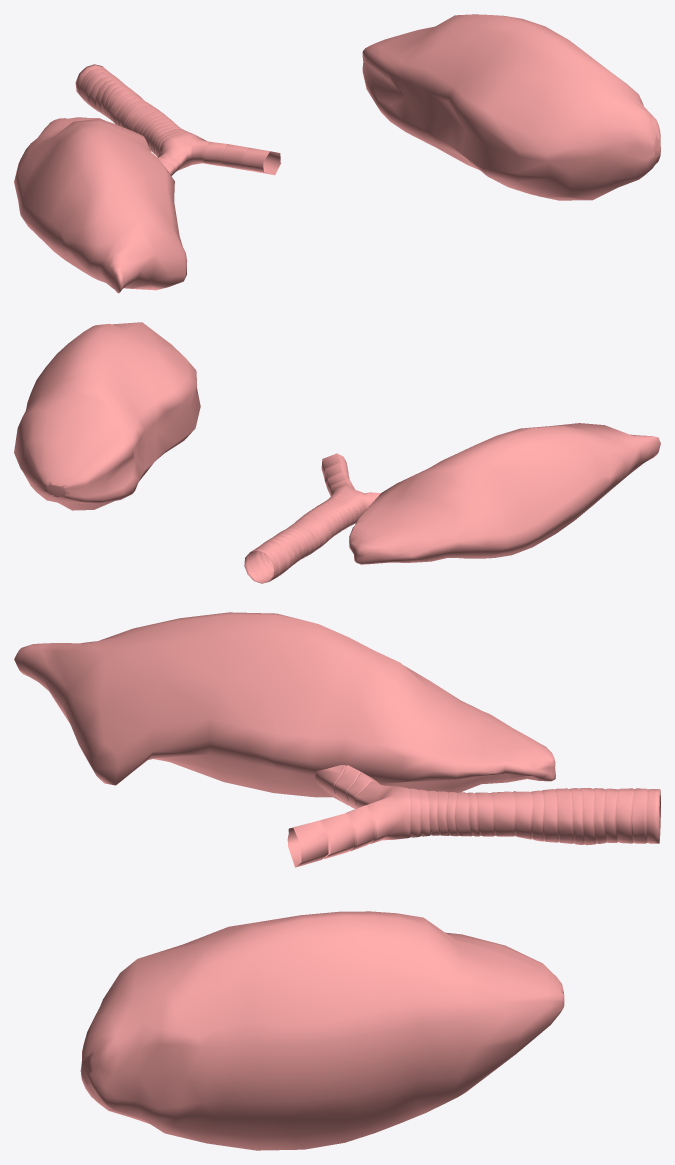
The model's file is lung2.fbx.
3 views of the same model, one above another, from view 1: azimuth 30°, elevation 25°; view 2: azimuth 150°, elevation 25°; view 3: azimuth 270°, elevation 25° (orthographic). The views are drawn at different scales.
Parts seen in each view (by area): view 1: left_lung, right_lung, windpipe; view 2: right_lung, left_lung, windpipe; view 3: left_lung, right_lung, windpipe.
Boxes of the visible parts, <box> form: left_lung: <box>362,14,660,200</box>; right_lung: <box>14,117,187,293</box>; windpipe: <box>75,64,280,175</box>; right_lung: <box>349,423,660,564</box>; left_lung: <box>14,322,200,510</box>; windpipe: <box>244,453,380,583</box>; left_lung: <box>80,911,564,1150</box>; right_lung: <box>14,612,555,797</box>; windpipe: <box>287,765,660,867</box>.
Size of the model in its own units: 675 by 181 by 466.
